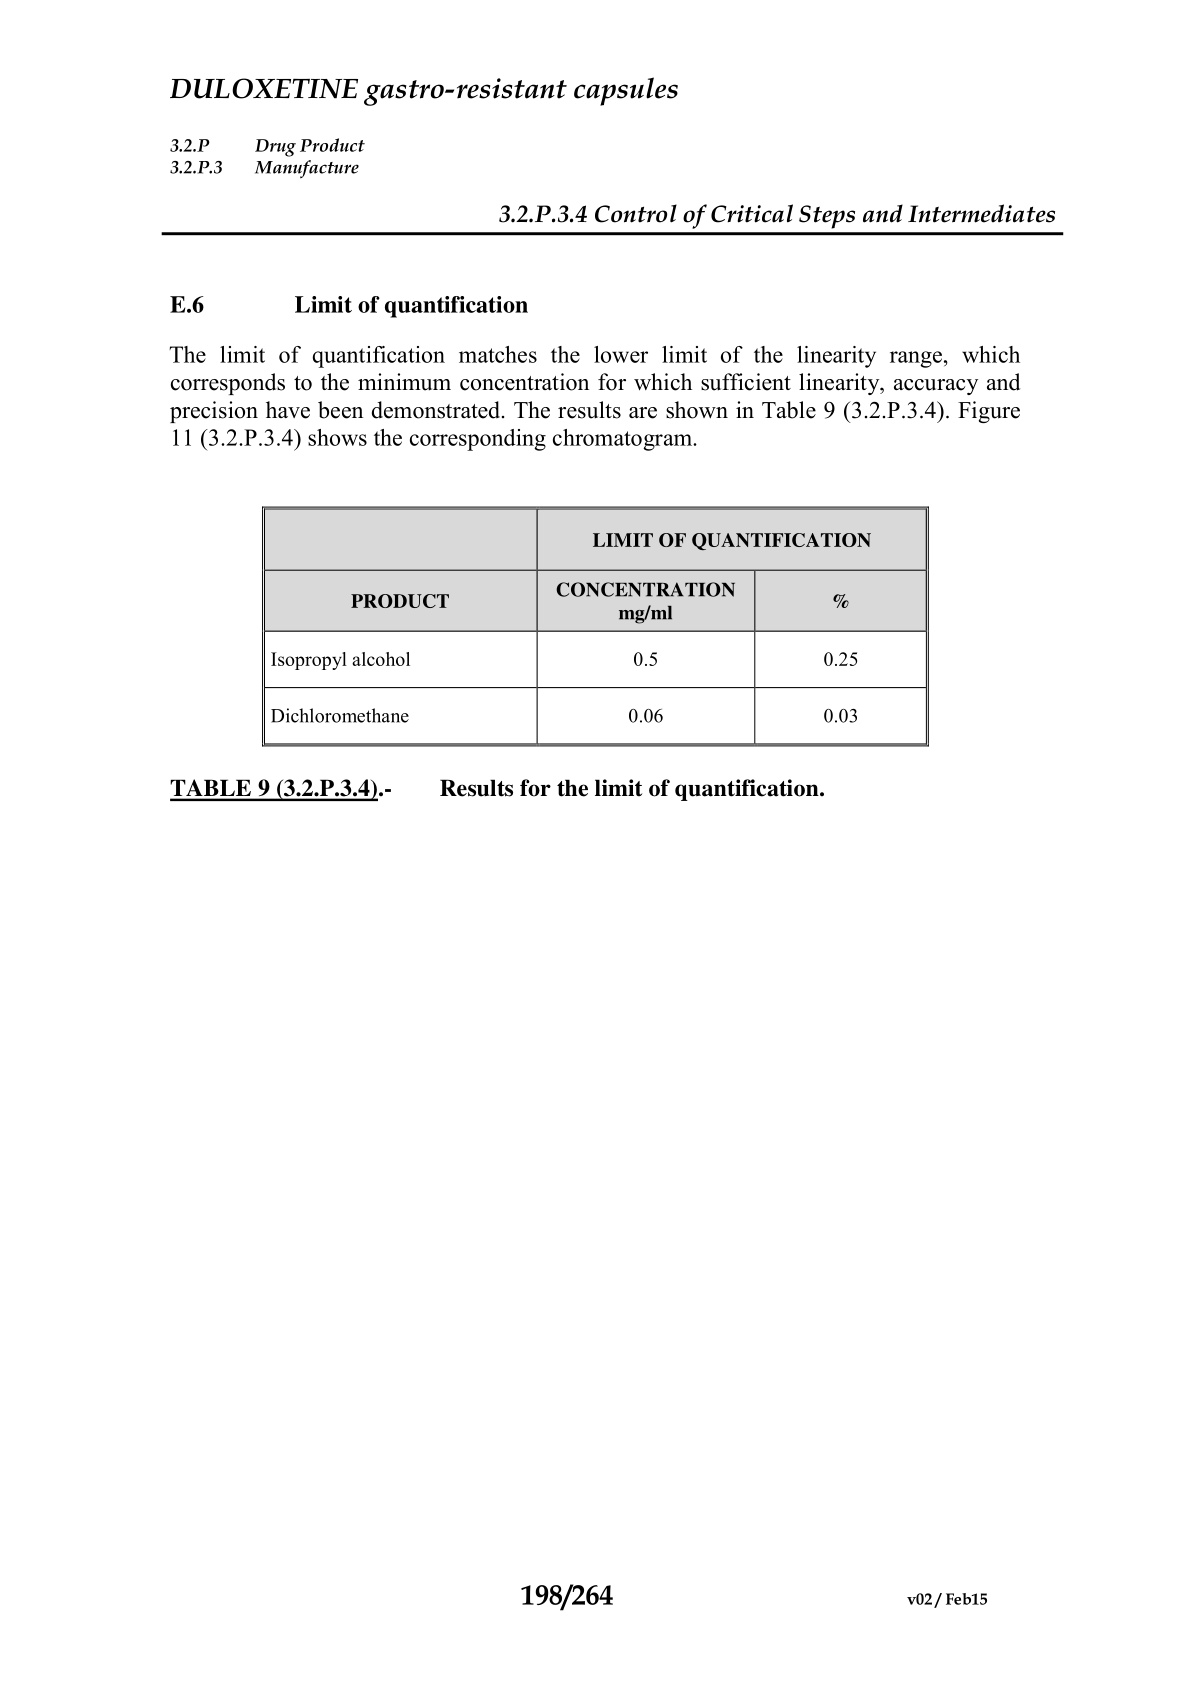merged_cells: (262, 505, 931, 748)
